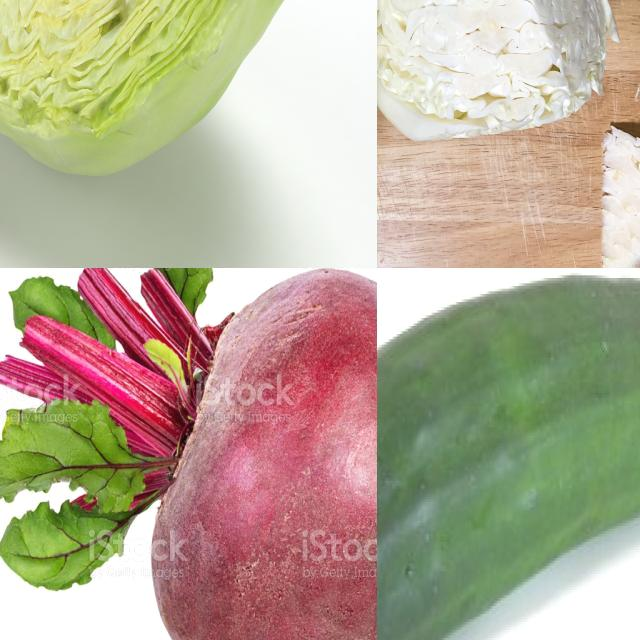beet: (1, 269, 378, 640)
cabbage: (1, 1, 287, 191), (378, 1, 613, 134)
cucumber: (378, 271, 640, 640)
